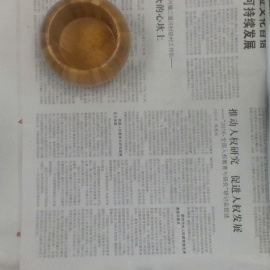chess: (42, 1, 131, 86)
